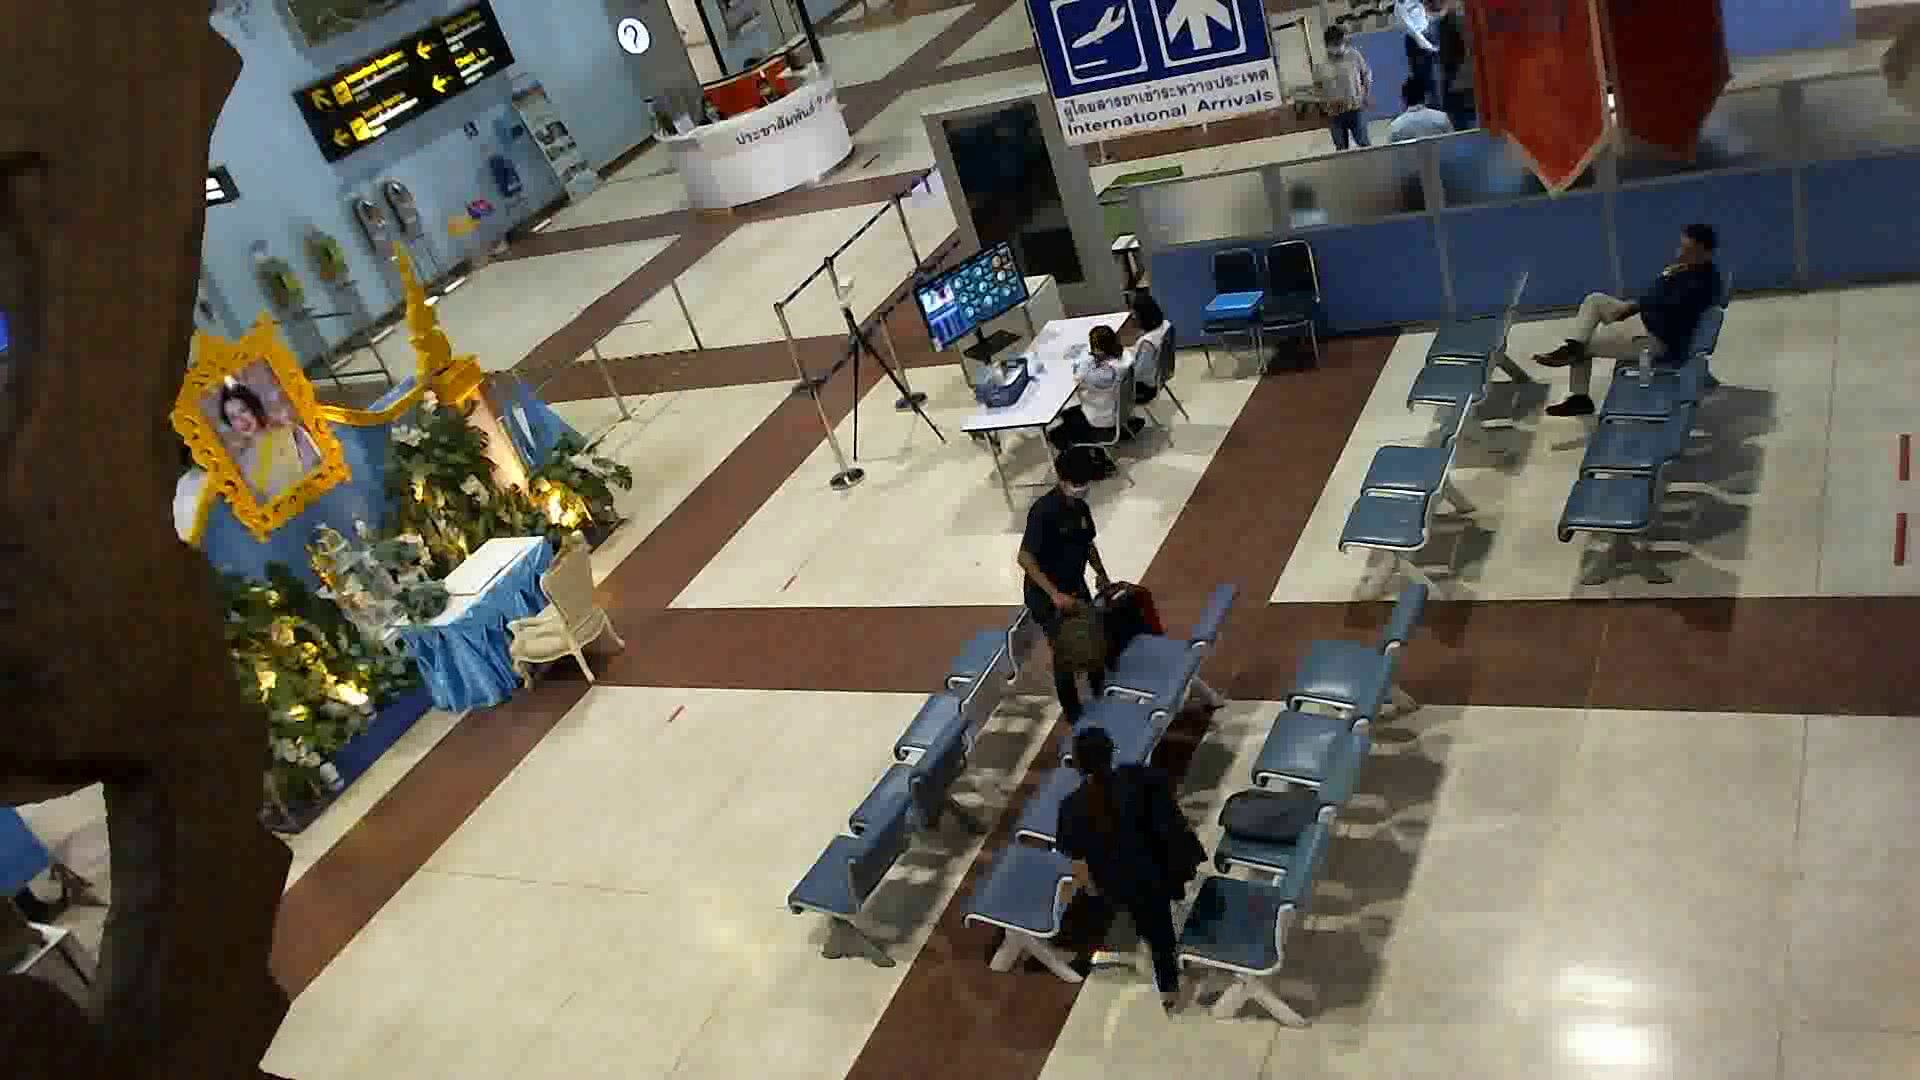backpack: (1220, 772, 1328, 849), (1047, 590, 1106, 684)
luggage: (1106, 578, 1164, 672)
people: (1053, 724, 1206, 1041), (1529, 213, 1724, 422), (1026, 447, 1120, 728), (1041, 332, 1122, 472), (1108, 297, 1178, 403)
